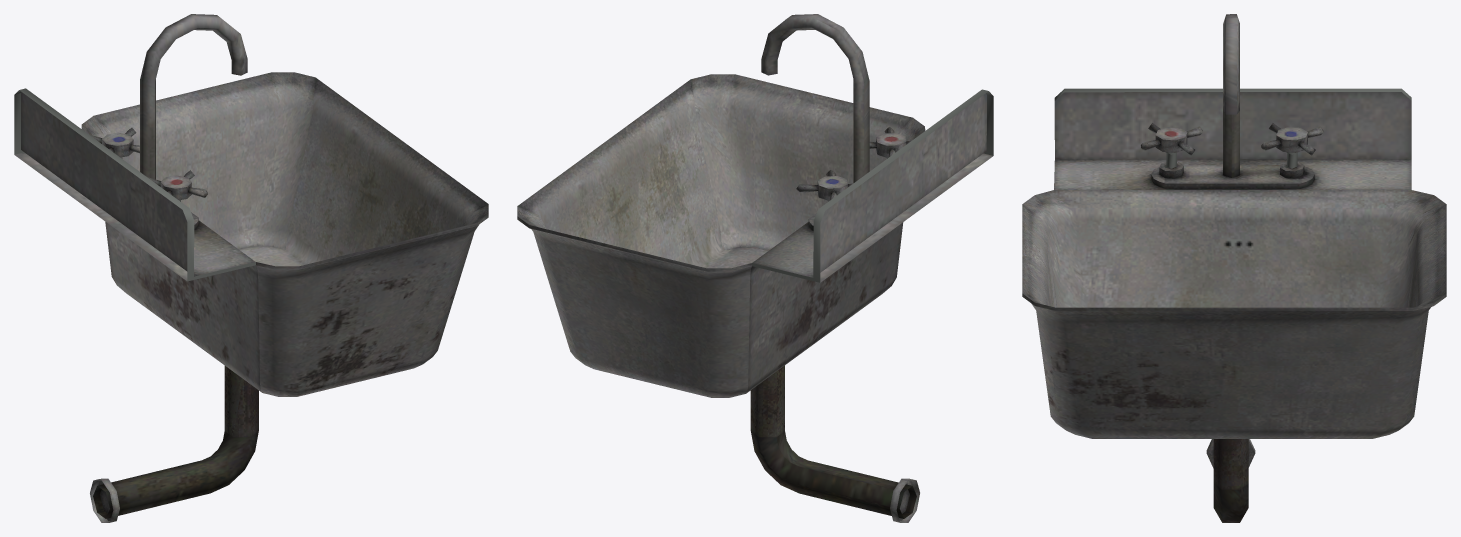
Rendered from sinkfbx.fbx.
3 renders of one model, left to right at view 1: azimuth 30°, elevation 25°; view 2: azimuth 150°, elevation 25°; view 3: azimuth 270°, elevation 25°, orthographic. The views are drawn at different scales.
Visible parts, largest first — view 1: sinkkitchen01a.mdl/SinkKitchen01a_reference.smd_0; view 2: sinkkitchen01a.mdl/SinkKitchen01a_reference.smd_0; view 3: sinkkitchen01a.mdl/SinkKitchen01a_reference.smd_0.
Part boxes in pixels (x1=…): sinkkitchen01a.mdl/SinkKitchen01a_reference.smd_0: x1=14, y1=14, x2=488, y2=522; sinkkitchen01a.mdl/SinkKitchen01a_reference.smd_0: x1=517, y1=14, x2=993, y2=522; sinkkitchen01a.mdl/SinkKitchen01a_reference.smd_0: x1=1022, y1=14, x2=1446, y2=522.
Size of the model in its own units: 23.27 by 35.61 by 27.41.
